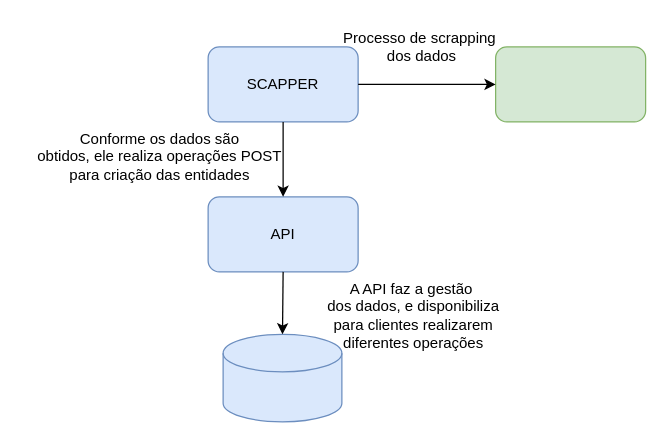
This 668x444 diagram has some shape labels left out. Each missing label, with the box of its shape:
Database: (222, 333, 342, 422)
vitibrasil: (494, 46, 646, 122)
